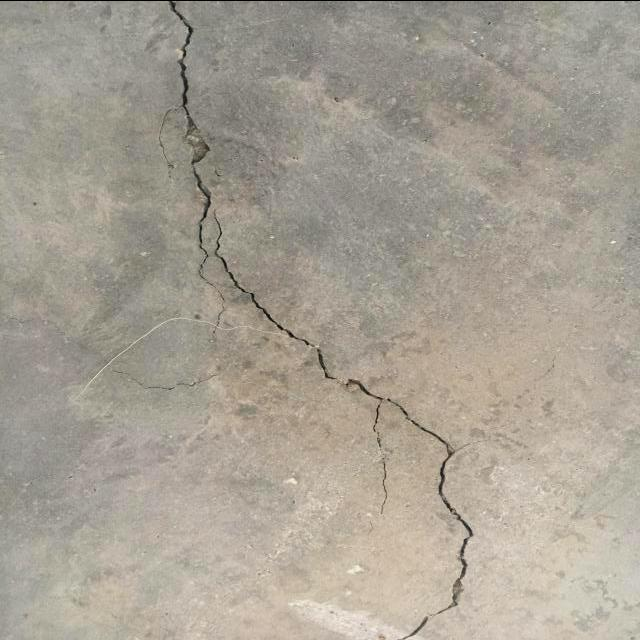SurfaceCrack: (107, 1, 513, 640)
